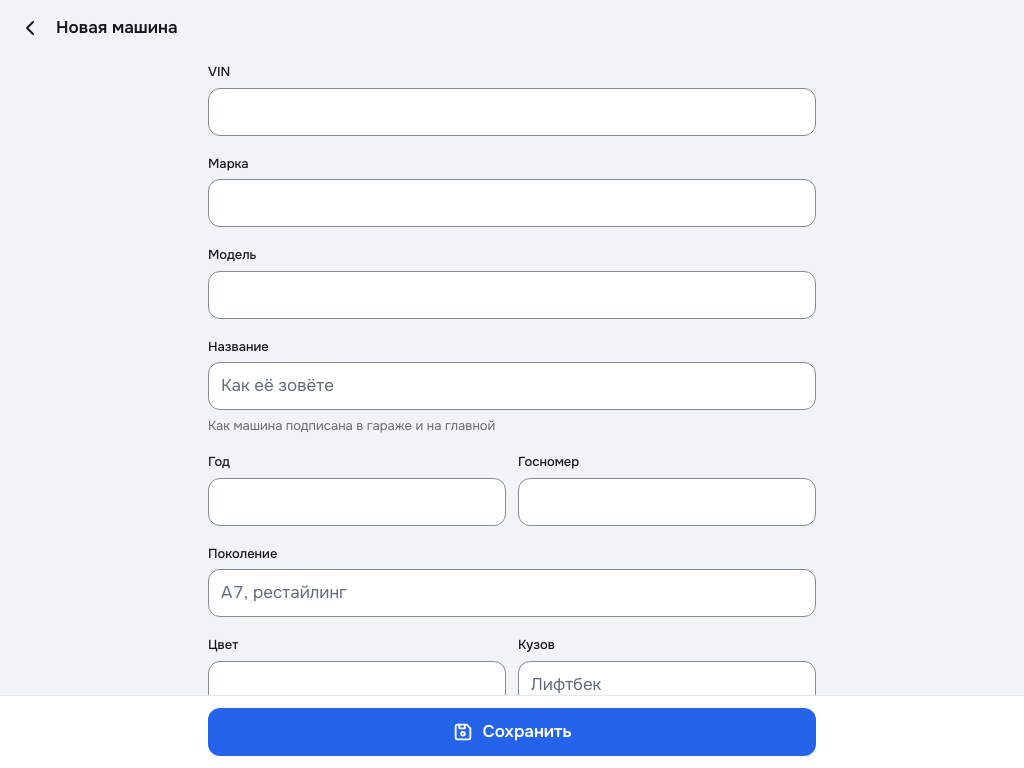
Test case: «Уточнить онлайн» с ответом заполняет пустые поля
The width and height of the screenshot is (1024, 768).
Type "1HGCM82633A004352" into the field labelled "VIN" at (512, 112), box [221, 89, 803, 135]
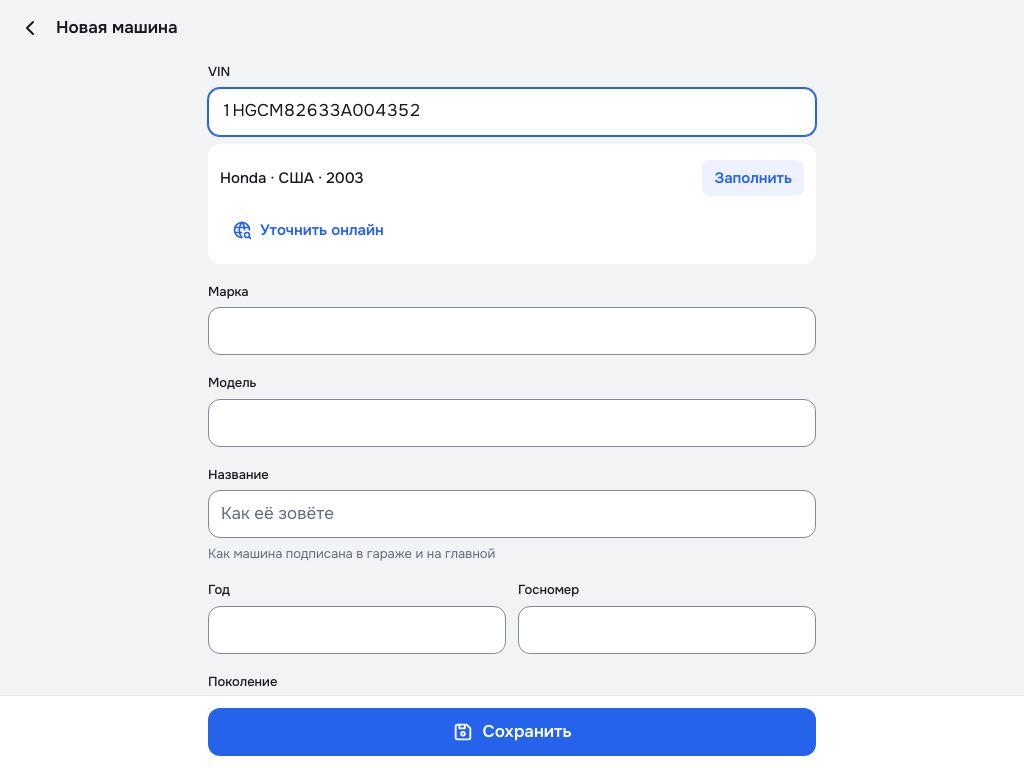
Click the button "Уточнить онлайн" at (308, 230), box [220, 212, 396, 248]
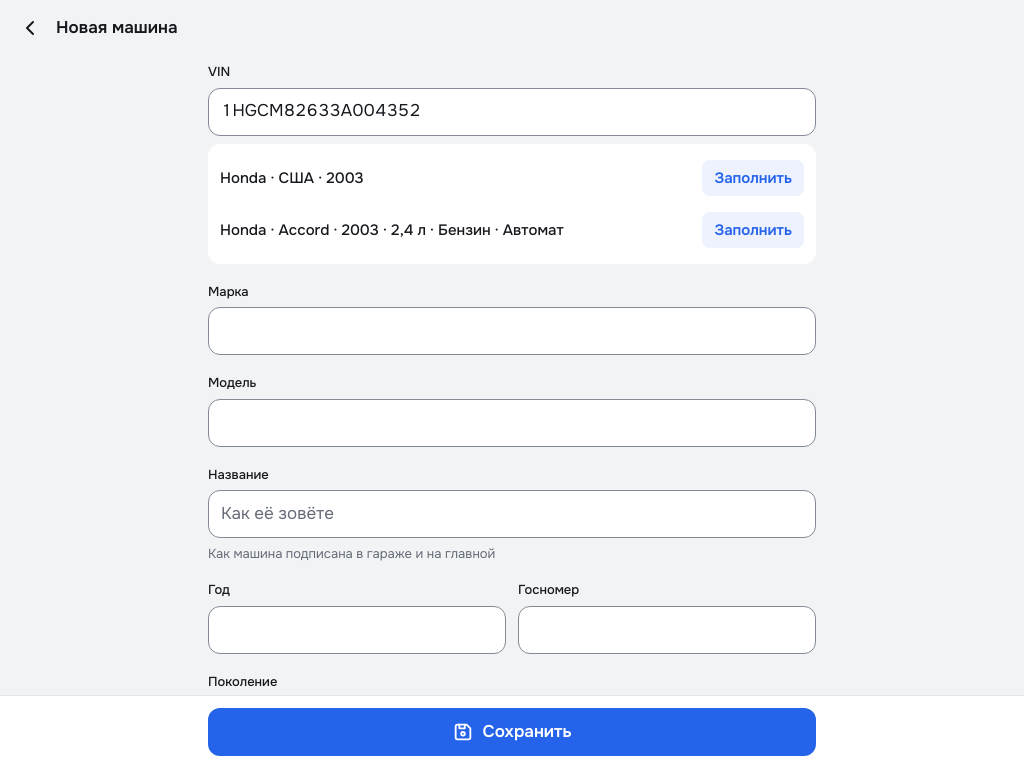
Click the 2nd button "Заполнить" at (753, 230), box [702, 212, 804, 248]
(page scrolled)
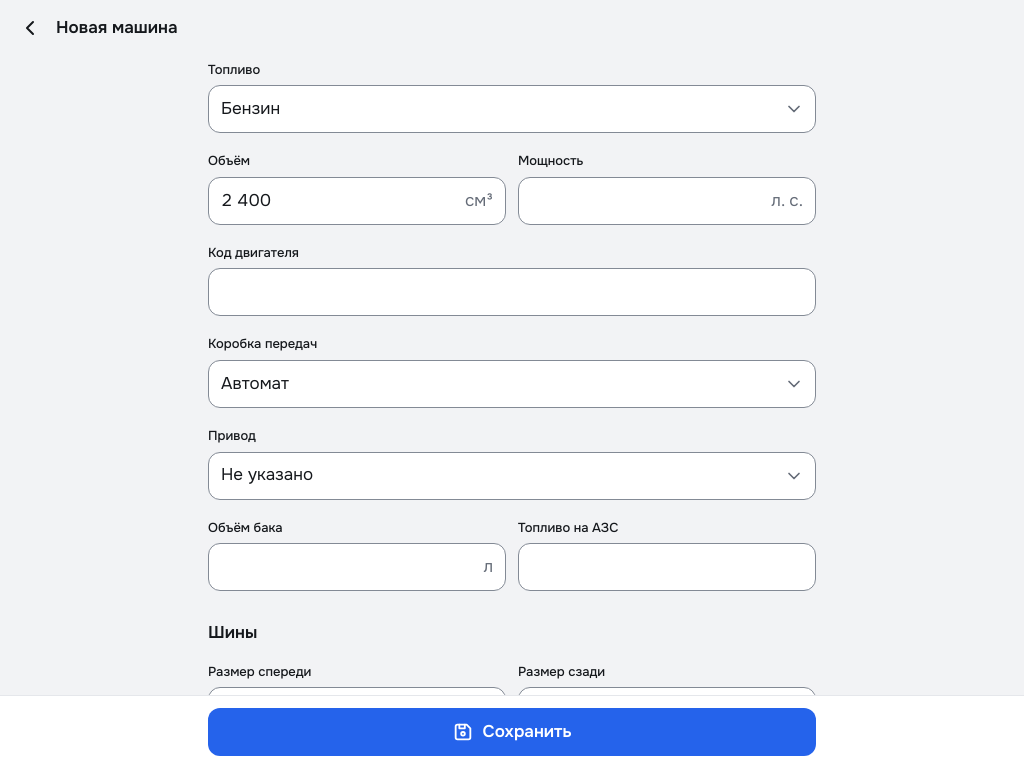
Result: the dropdown labelled "Коробка передач" shows "Автомат" at [208, 360, 816, 408]
